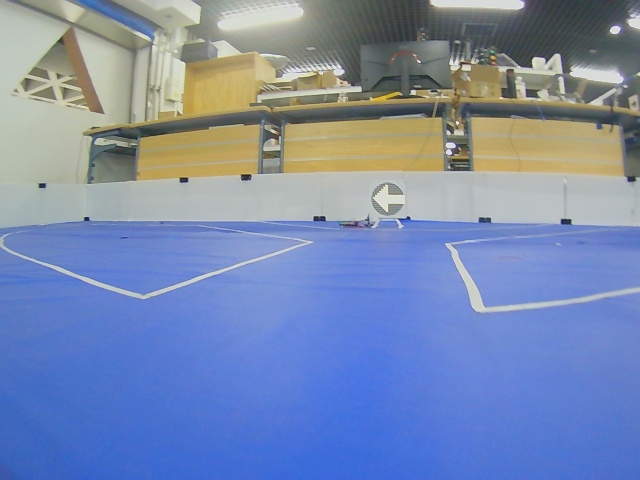left_yellow: (372, 183, 405, 215)
